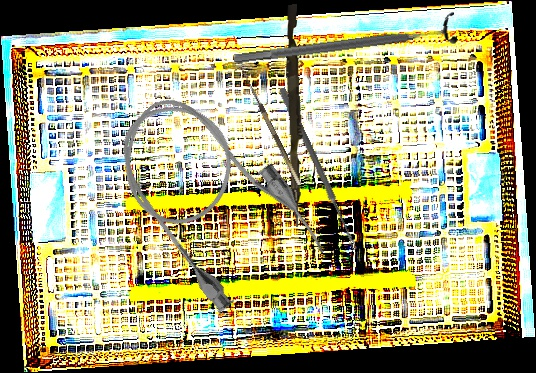Cannula: (93, 69, 334, 326)
Fixation Ring: (231, 10, 459, 77)
Hook Surgical: (233, 65, 302, 189)
Pusher: (281, 4, 309, 227)
Surgical Spoon: (277, 87, 360, 251)
